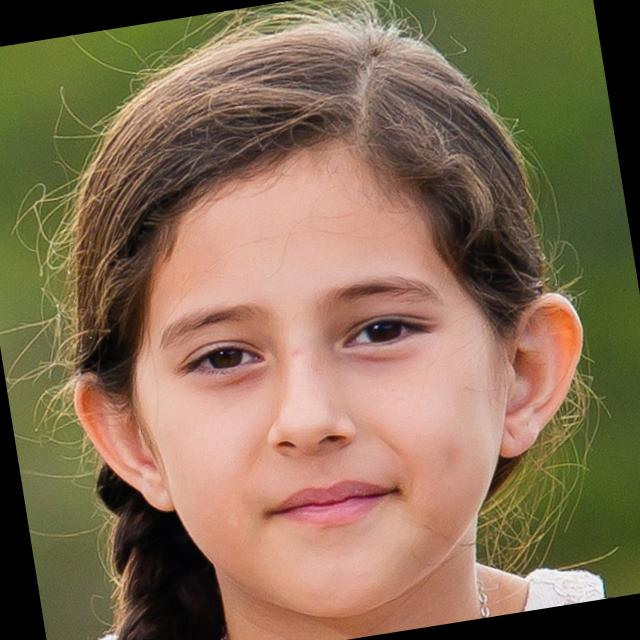face: (32, 163, 617, 640)
